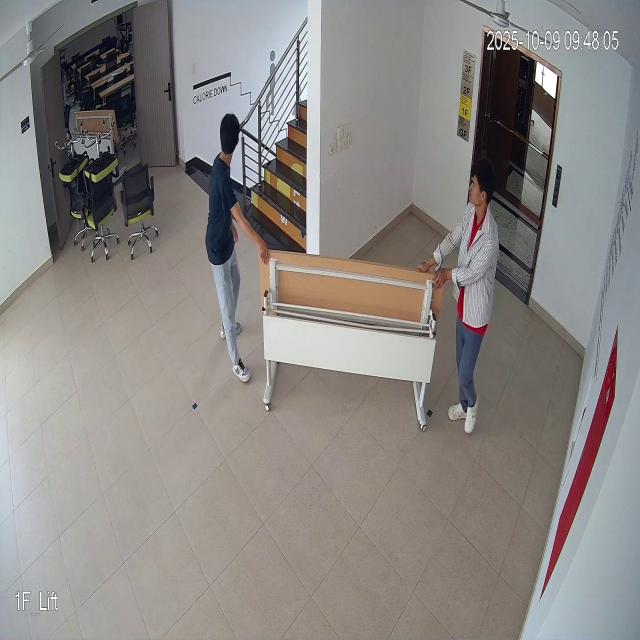face: (465, 158, 499, 218)
